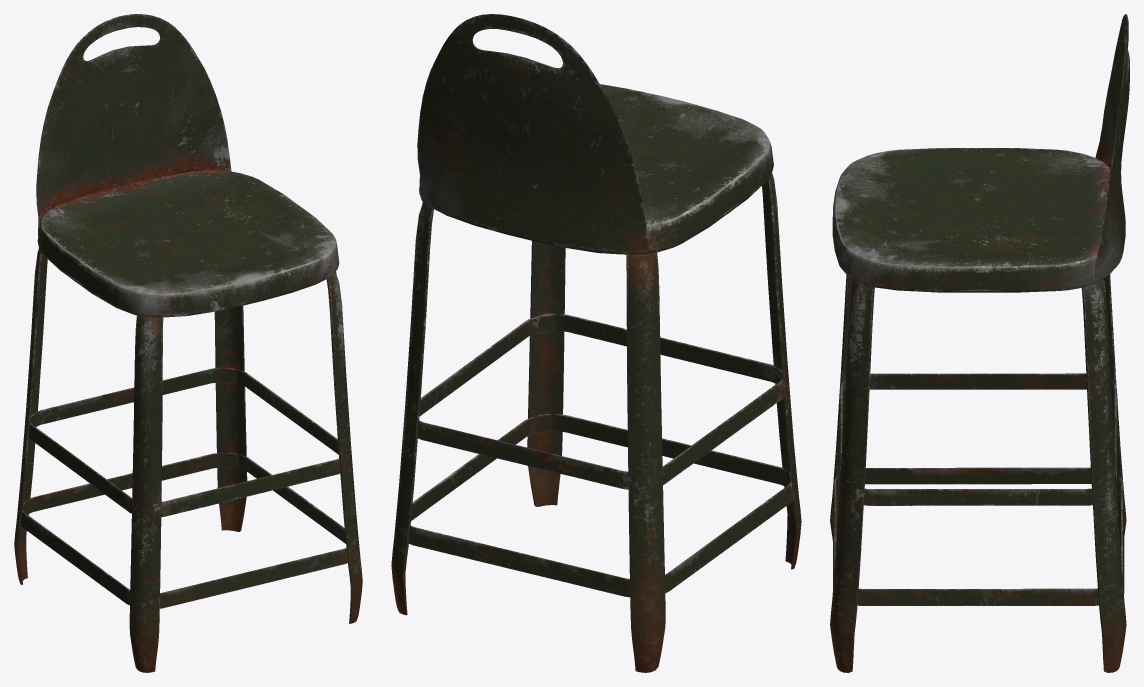
Rendered from Stool.fbx.
3 views of the same model, side by side, from view 1: azimuth 30°, elevation 25°; view 2: azimuth 150°, elevation 25°; view 3: azimuth 270°, elevation 25° (orthographic). The views are drawn at different scales.
Parts seen in each view (by area): view 1: metal_stool_03; view 2: metal_stool_03; view 3: metal_stool_03.
Part boxes in pixels (x1,y1,x2,y2): metal_stool_03: (14, 14, 362, 672); metal_stool_03: (391, 14, 801, 672); metal_stool_03: (830, 14, 1129, 672).
Bounding box in the file's own units: 46.06 × 102 × 47.06.
